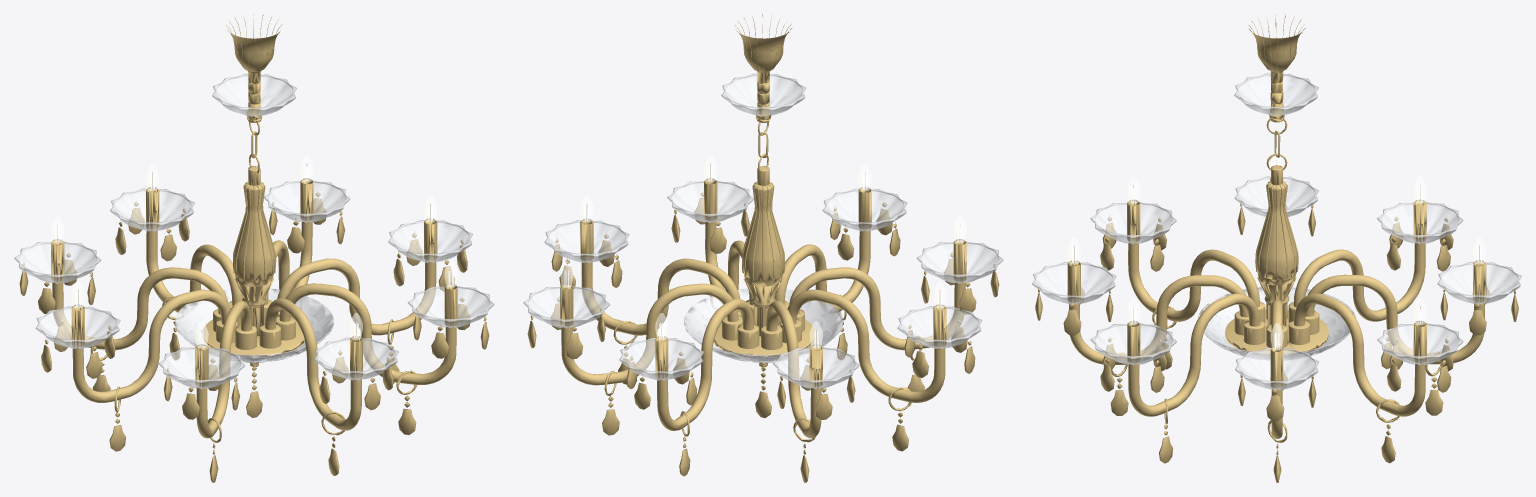
Rendered from chandelier.glb.
3 views of the same model, side by side, from view 1: azimuth 30°, elevation 25°; view 2: azimuth 150°, elevation 25°; view 3: azimuth 270°, elevation 25° (orthographic).
Visible parts, largest first — view 1: Gold1, plate, Decoration, Gold2, LightGlass, Light; view 2: Gold1, plate, Decoration, Gold2, LightGlass, Light; view 3: Gold1, plate, Decoration, Gold2, LightGlass.
Boxes of the visible parts, left/top/right/bottom form: Gold1: left=52, top=14, right=456, bottom=438; plate: left=14, top=73, right=494, bottom=389; Decoration: left=19, top=192, right=489, bottom=482; Gold2: left=51, top=166, right=457, bottom=387; LightGlass: left=51, top=155, right=457, bottom=348; Light: left=55, top=165, right=453, bottom=346; Gold1: left=561, top=14, right=965, bottom=438; plate: left=523, top=73, right=1003, bottom=389; Decoration: left=527, top=192, right=999, bottom=482; Gold2: left=560, top=166, right=966, bottom=387; LightGlass: left=560, top=155, right=966, bottom=348; Light: left=564, top=165, right=962, bottom=346; Gold1: left=1069, top=14, right=1484, bottom=438; plate: left=1032, top=73, right=1521, bottom=390; Decoration: left=1035, top=202, right=1518, bottom=482; Gold2: left=1067, top=165, right=1486, bottom=388; LightGlass: left=1067, top=152, right=1486, bottom=349.
Bounding box in the file's own units: 5.9 × 5.17 × 5.9.
